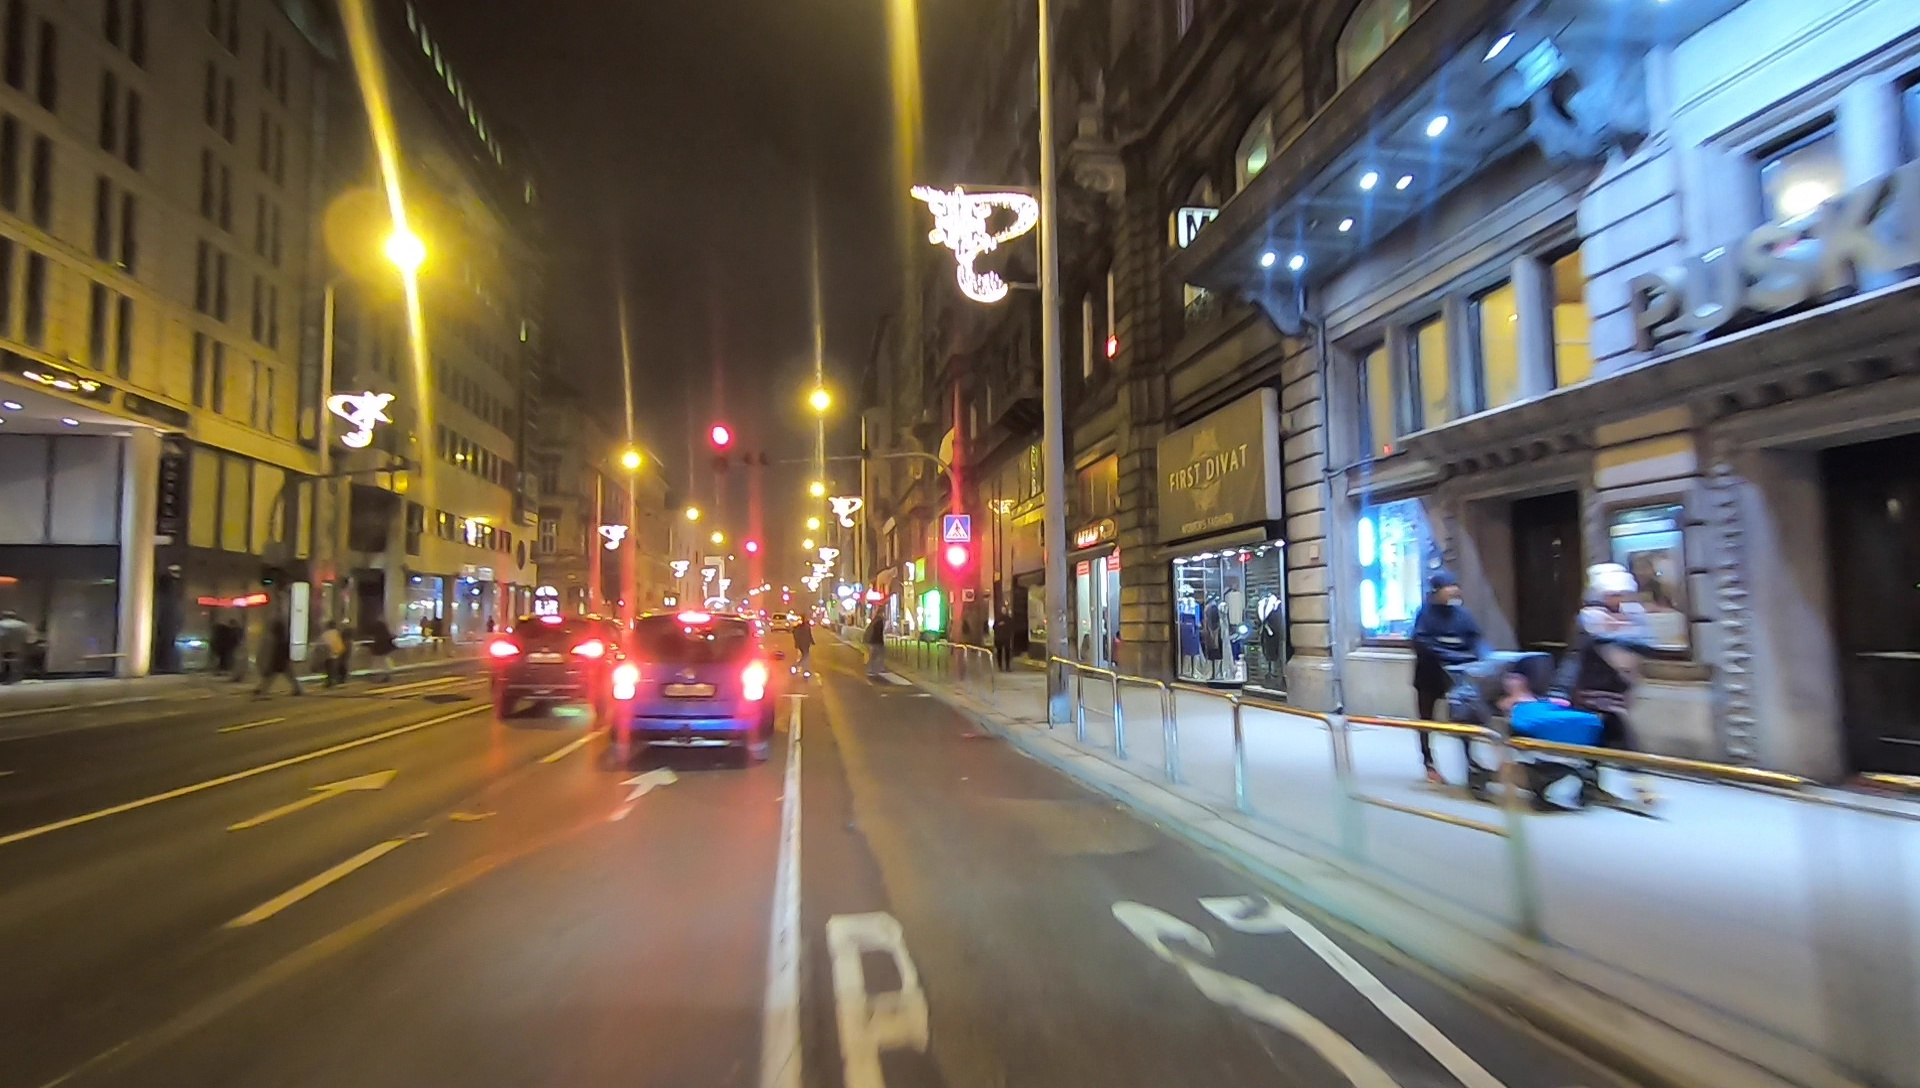person: (1562, 565, 1664, 813), (1406, 574, 1488, 797), (255, 617, 304, 695), (212, 616, 244, 682), (368, 612, 397, 680), (862, 609, 889, 679), (991, 604, 1017, 673), (789, 614, 813, 681), (316, 618, 339, 691)
